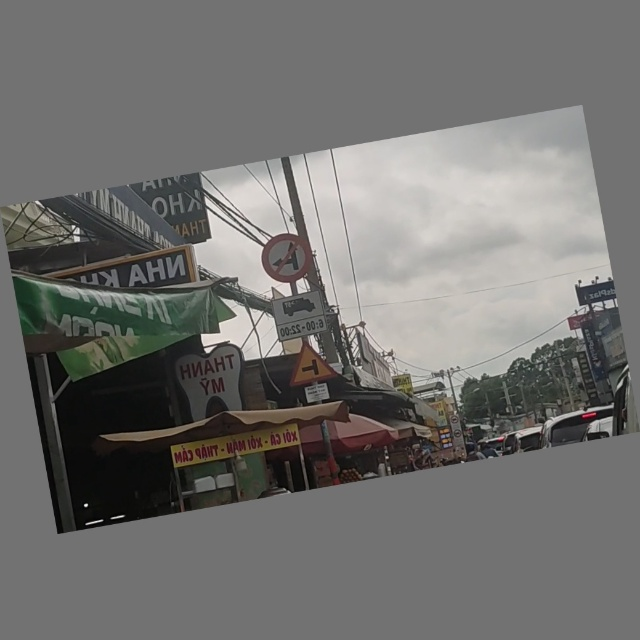P.139: (258, 229, 316, 287)
S.505a*Xe tai: (270, 291, 328, 343)
W.205b: (282, 339, 335, 388)
